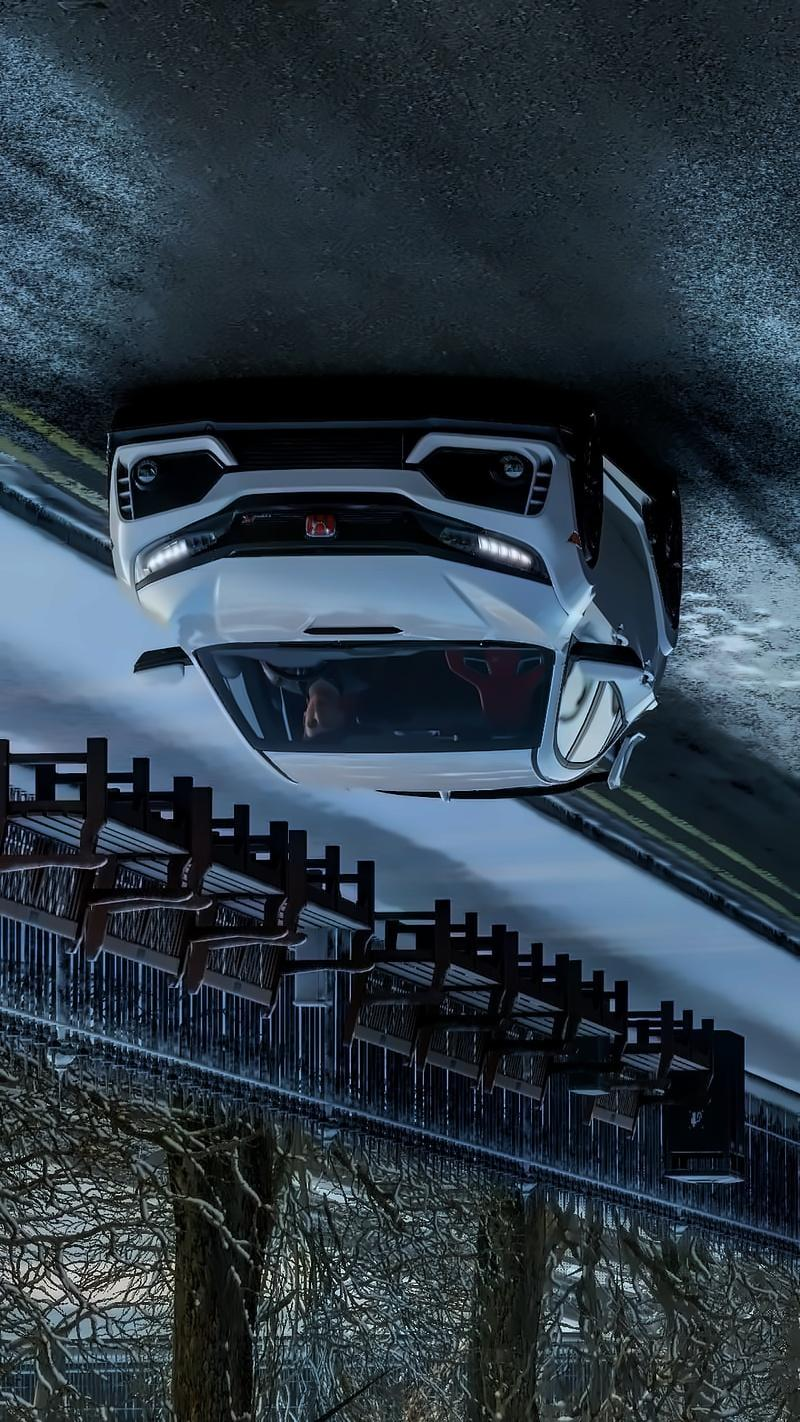Car hood: (124, 547, 568, 652)
Front bumper: (97, 413, 585, 540)
Headlight - -L-: (117, 504, 241, 595)
Headlight - -R-: (416, 506, 568, 586)
Side mirror - -L-: (117, 640, 202, 708)
Side mirror - -R-: (560, 629, 658, 699)
